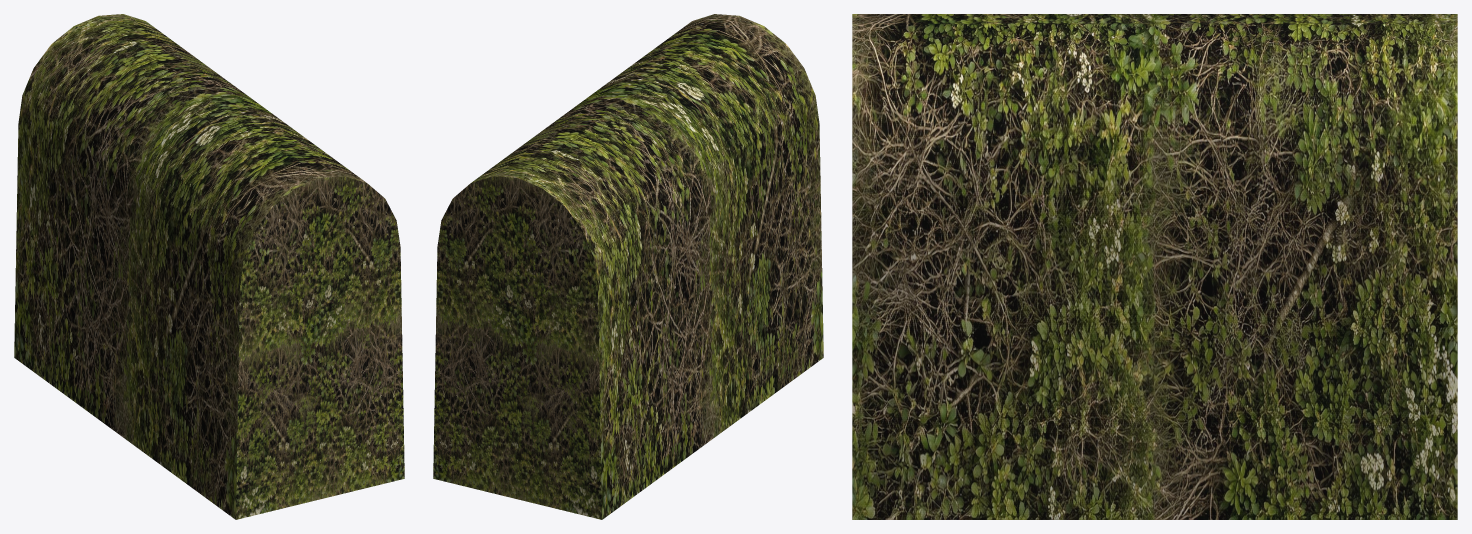
Rendered from hedge_end.glb.
3 renders of one model, left to right at view 1: azimuth 30°, elevation 25°; view 2: azimuth 150°, elevation 25°; view 3: azimuth 270°, elevation 25°, orthographic. The views are drawn at different scales.
Size of the model in its own units: 0.44 by 0.8 by 1.
1 material, 1 textured.
